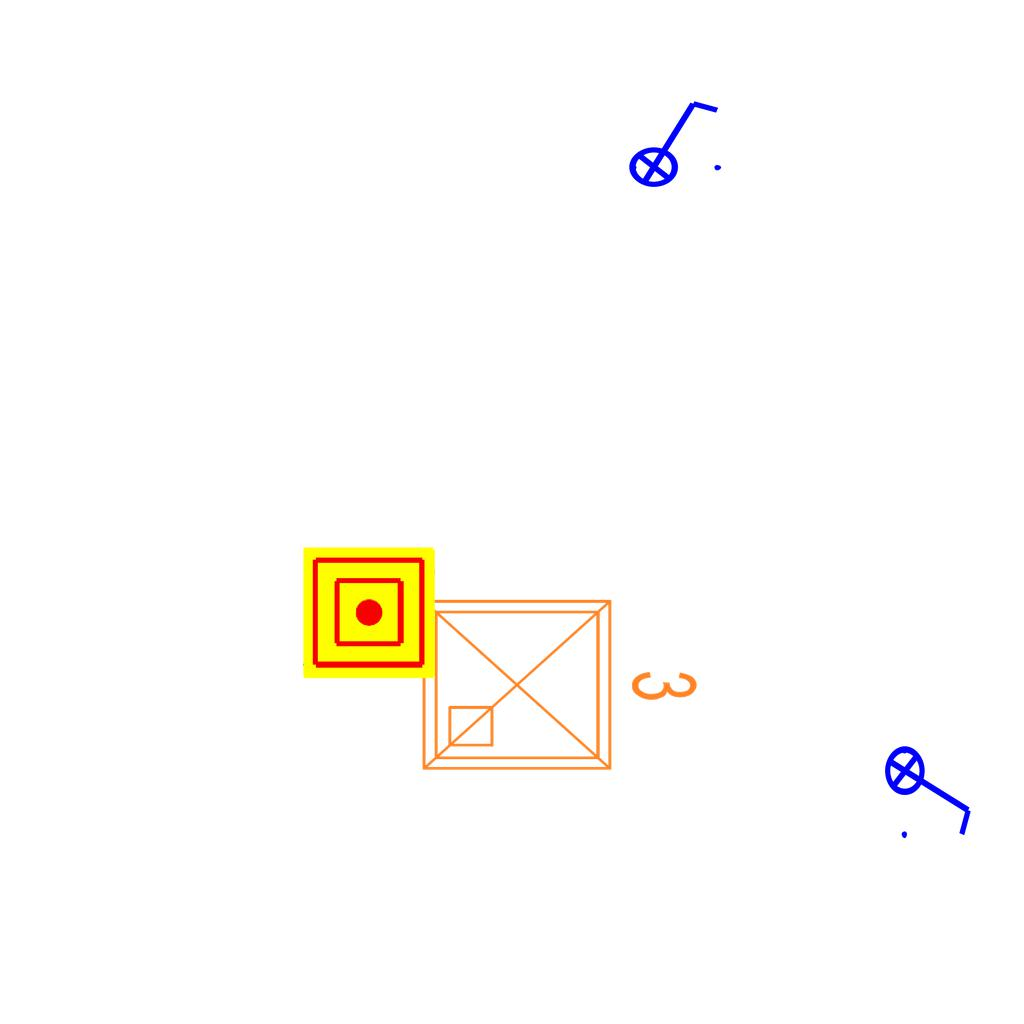Ausschalter_beleuchtet: (615, 93, 727, 189), (883, 732, 979, 844)
Einbaudownlights_LED_Konferenzraeume: (408, 577, 708, 785)
NAM-Nichtautomatischer_Melder: (303, 547, 435, 679)
